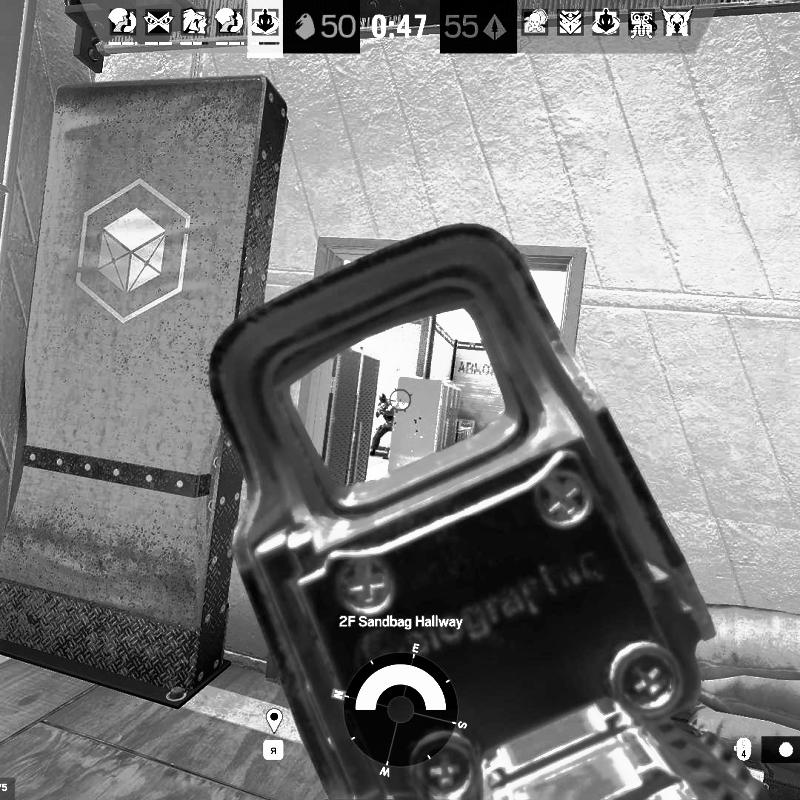Character: (368, 390, 399, 457)
Head: (378, 391, 388, 404)
